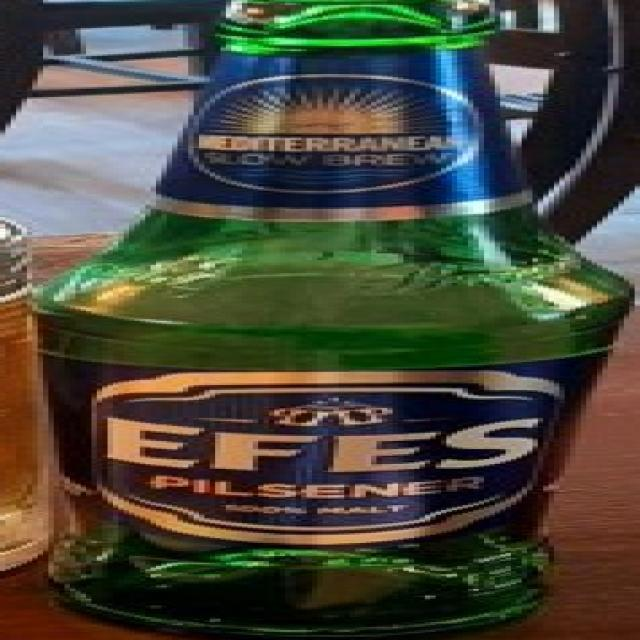Efes Pilsener: (0, 1, 640, 640)
